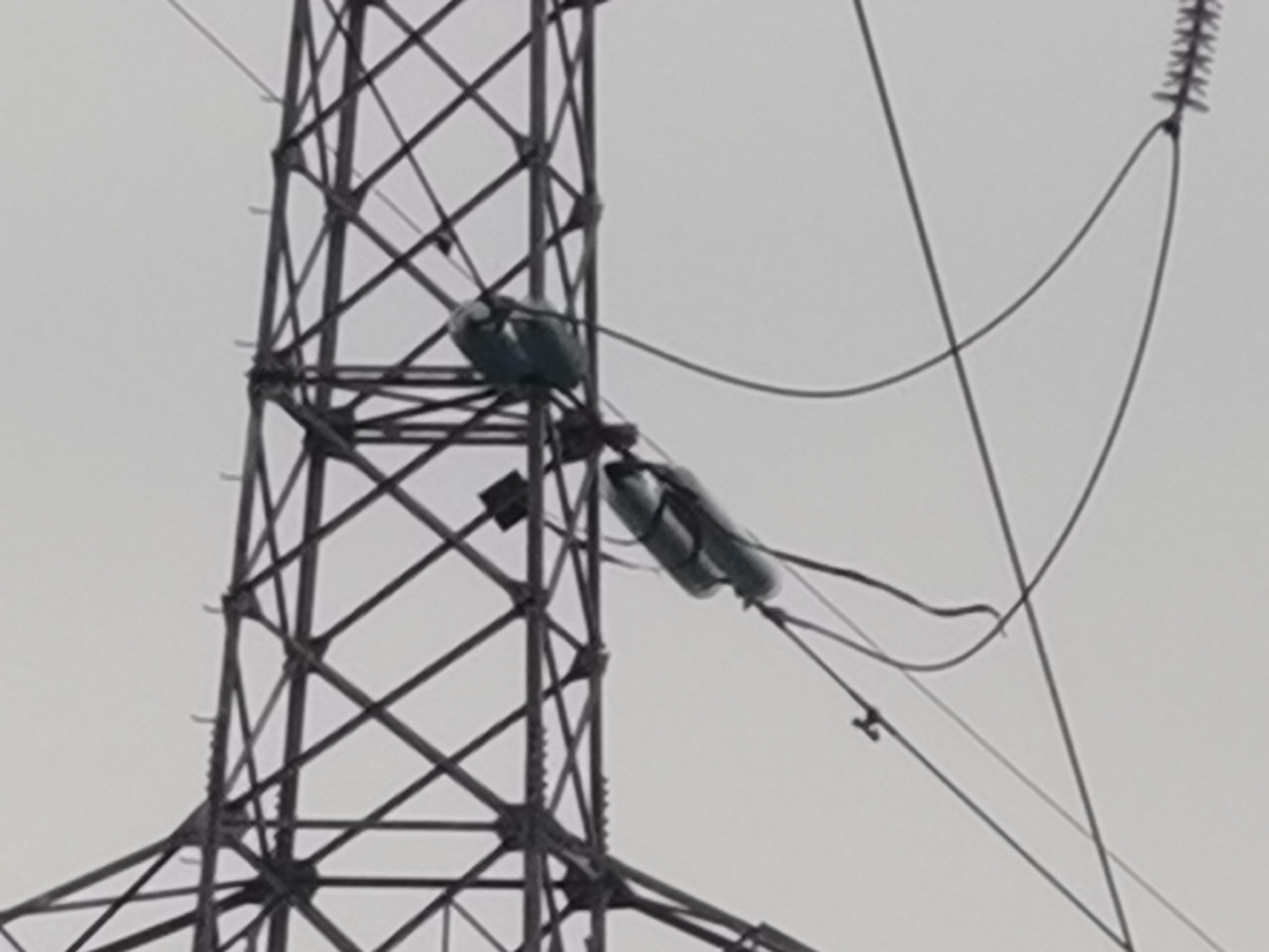异物: (543, 461, 1011, 641)
